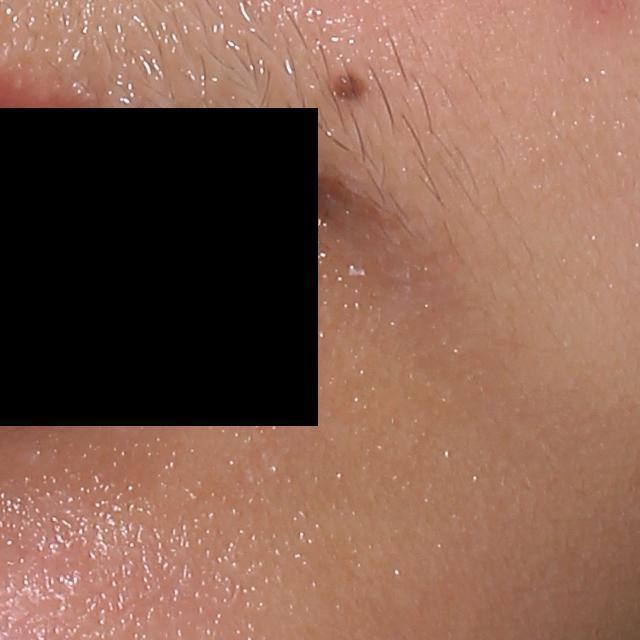nevus: (323, 69, 372, 107)
